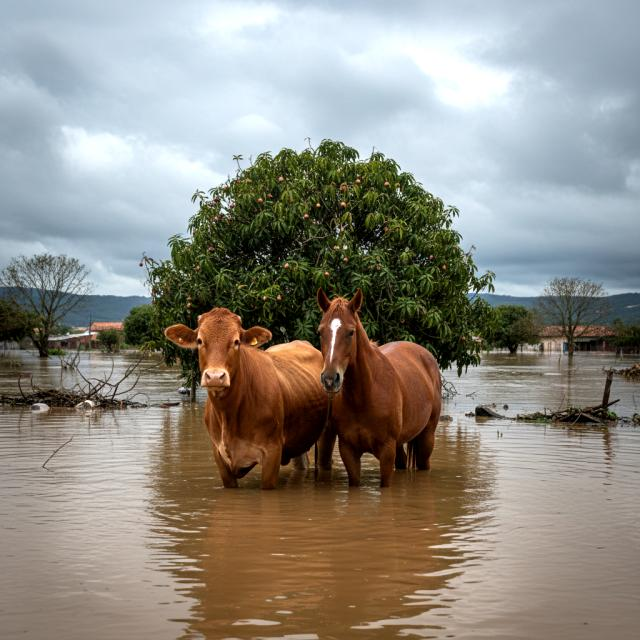cow: (161, 304, 332, 496)
horse: (304, 280, 454, 507)
